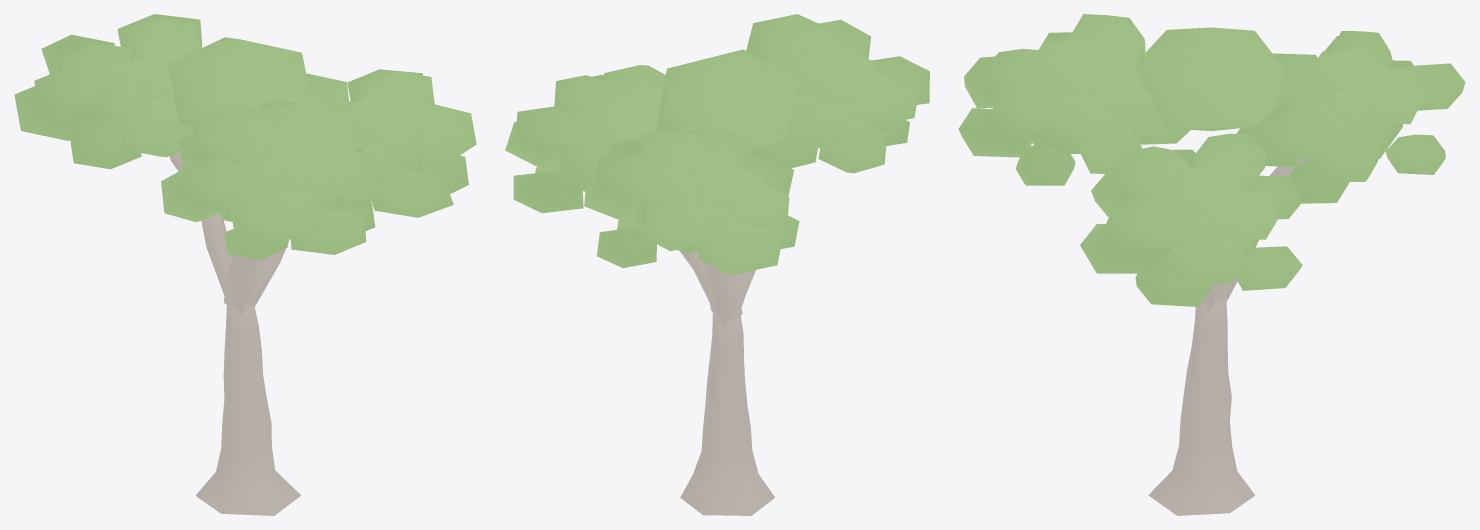
The model's file is Blender_LakeCottonwood_1_Far.glb.
3 views of the same model, side by side, from view 1: azimuth 30°, elevation 25°; view 2: azimuth 150°, elevation 25°; view 3: azimuth 270°, elevation 25° (orthographic). The views are drawn at different scales.
Visible parts, largest first — view 1: Blender_LakeCottonwood_1_Far; view 2: Blender_LakeCottonwood_1_Far; view 3: Blender_LakeCottonwood_1_Far.
Boxes of the visible parts, <box> form: Blender_LakeCottonwood_1_Far: <box>14,14,476,515</box>; Blender_LakeCottonwood_1_Far: <box>505,14,929,515</box>; Blender_LakeCottonwood_1_Far: <box>958,14,1465,515</box>.
Size of the model in its own units: 18.4 by 22.48 by 22.15.
